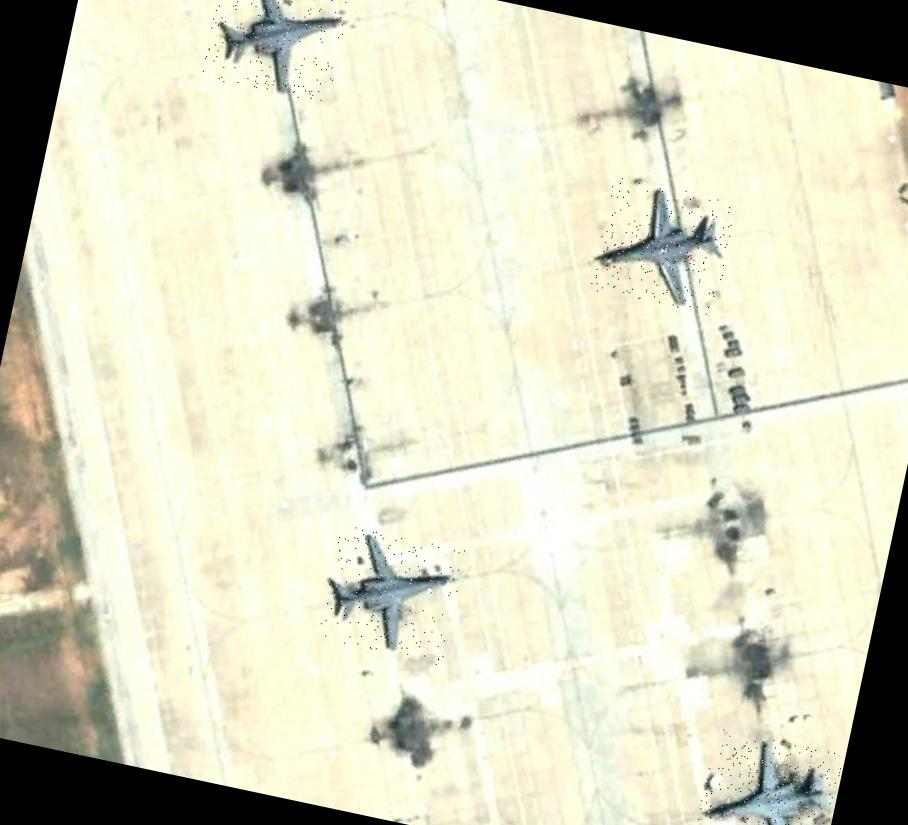A10: (314, 524, 466, 666), (588, 175, 739, 316), (200, 0, 351, 104), (692, 727, 843, 825)
